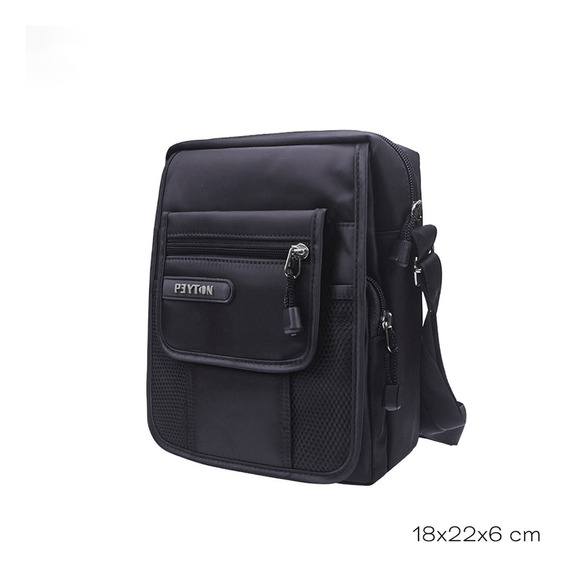cartera: (144, 127, 467, 487)
